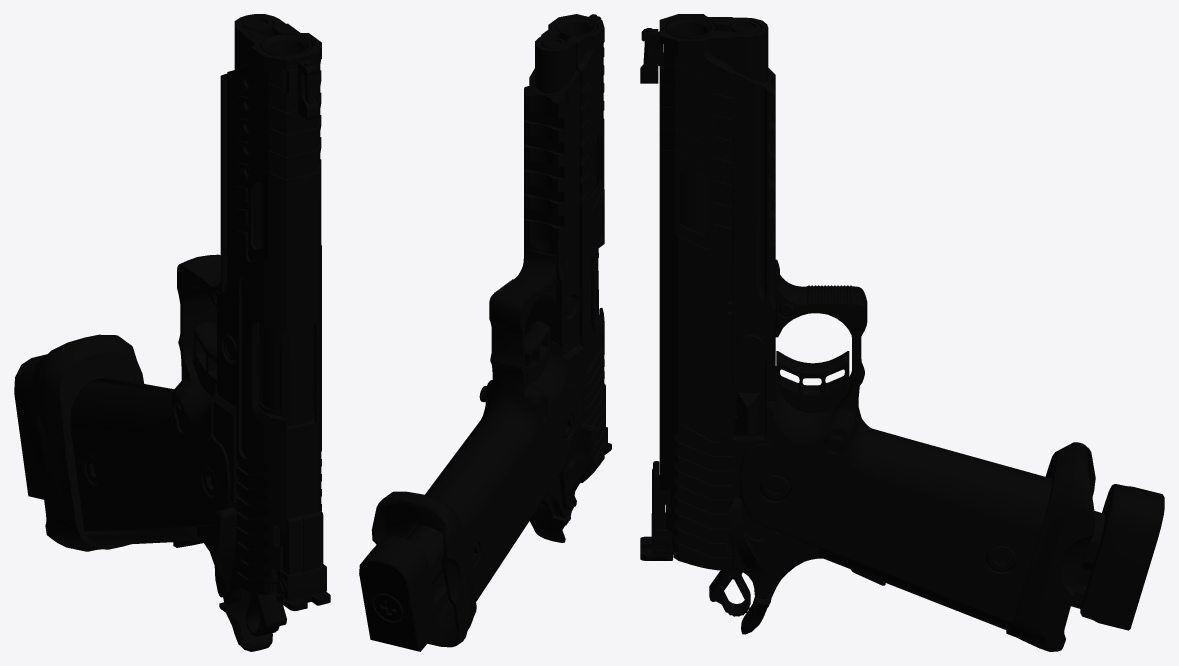
File: SpringfieldProdigy.fbx
3 renders of one model, left to right at view 1: azimuth 30°, elevation 25°; view 2: azimuth 150°, elevation 25°; view 3: azimuth 270°, elevation 25°, orthographic. The views are drawn at different scales.
Visible parts, largest first — view 1: asset_SpringfieldProdigy.001; view 2: asset_SpringfieldProdigy.001; view 3: asset_SpringfieldProdigy.001.
Part boxes in pixels (box(x1,y1,x2,y2)): asset_SpringfieldProdigy.001: box(14, 14, 330, 651); asset_SpringfieldProdigy.001: box(359, 14, 611, 651); asset_SpringfieldProdigy.001: box(640, 14, 1164, 651).
Size of the model in its own units: 0.0209 by 0.1332 by 0.1029.
